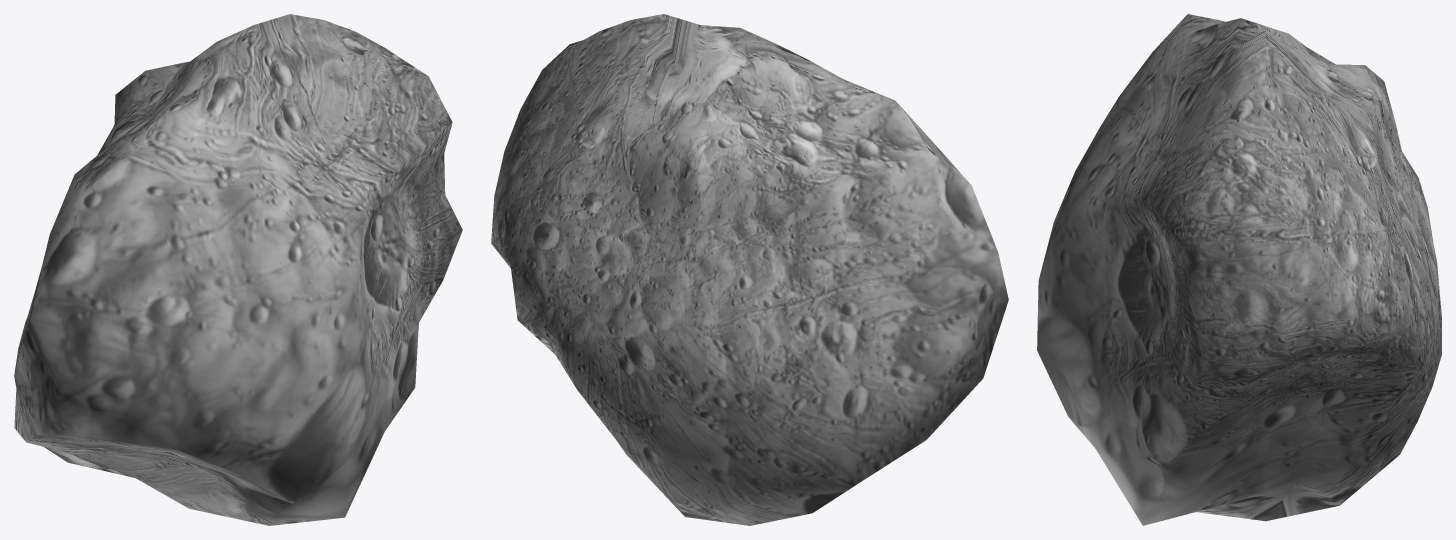
Rendered from asteroid_3.FBX.
The picture shows the model from 3 angles, left to right: view 1: azimuth 30°, elevation 25°; view 2: azimuth 150°, elevation 25°; view 3: azimuth 270°, elevation 25°; orthographic projection. The views are drawn at different scales.
Parts seen in each view (by area): view 1: GeoSphere002; view 2: GeoSphere002; view 3: GeoSphere002.
Part boxes in pixels (box(x1,y1,x2,y2)): GeoSphere002: box(14, 14, 462, 525); GeoSphere002: box(491, 14, 1008, 525); GeoSphere002: box(1037, 14, 1441, 525).
Size of the model in its own units: 3.82 by 3.85 by 2.85.
Materials: 1 (1 with a texture image).
